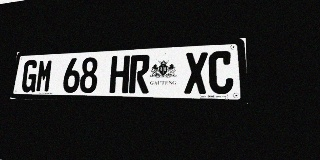6: (62, 58, 82, 93)
8: (79, 57, 99, 93)
C: (209, 50, 234, 94)
G: (21, 60, 39, 92)
H: (109, 55, 130, 93)
M: (35, 59, 54, 92)
R: (129, 54, 150, 93)
X: (184, 52, 208, 94)
